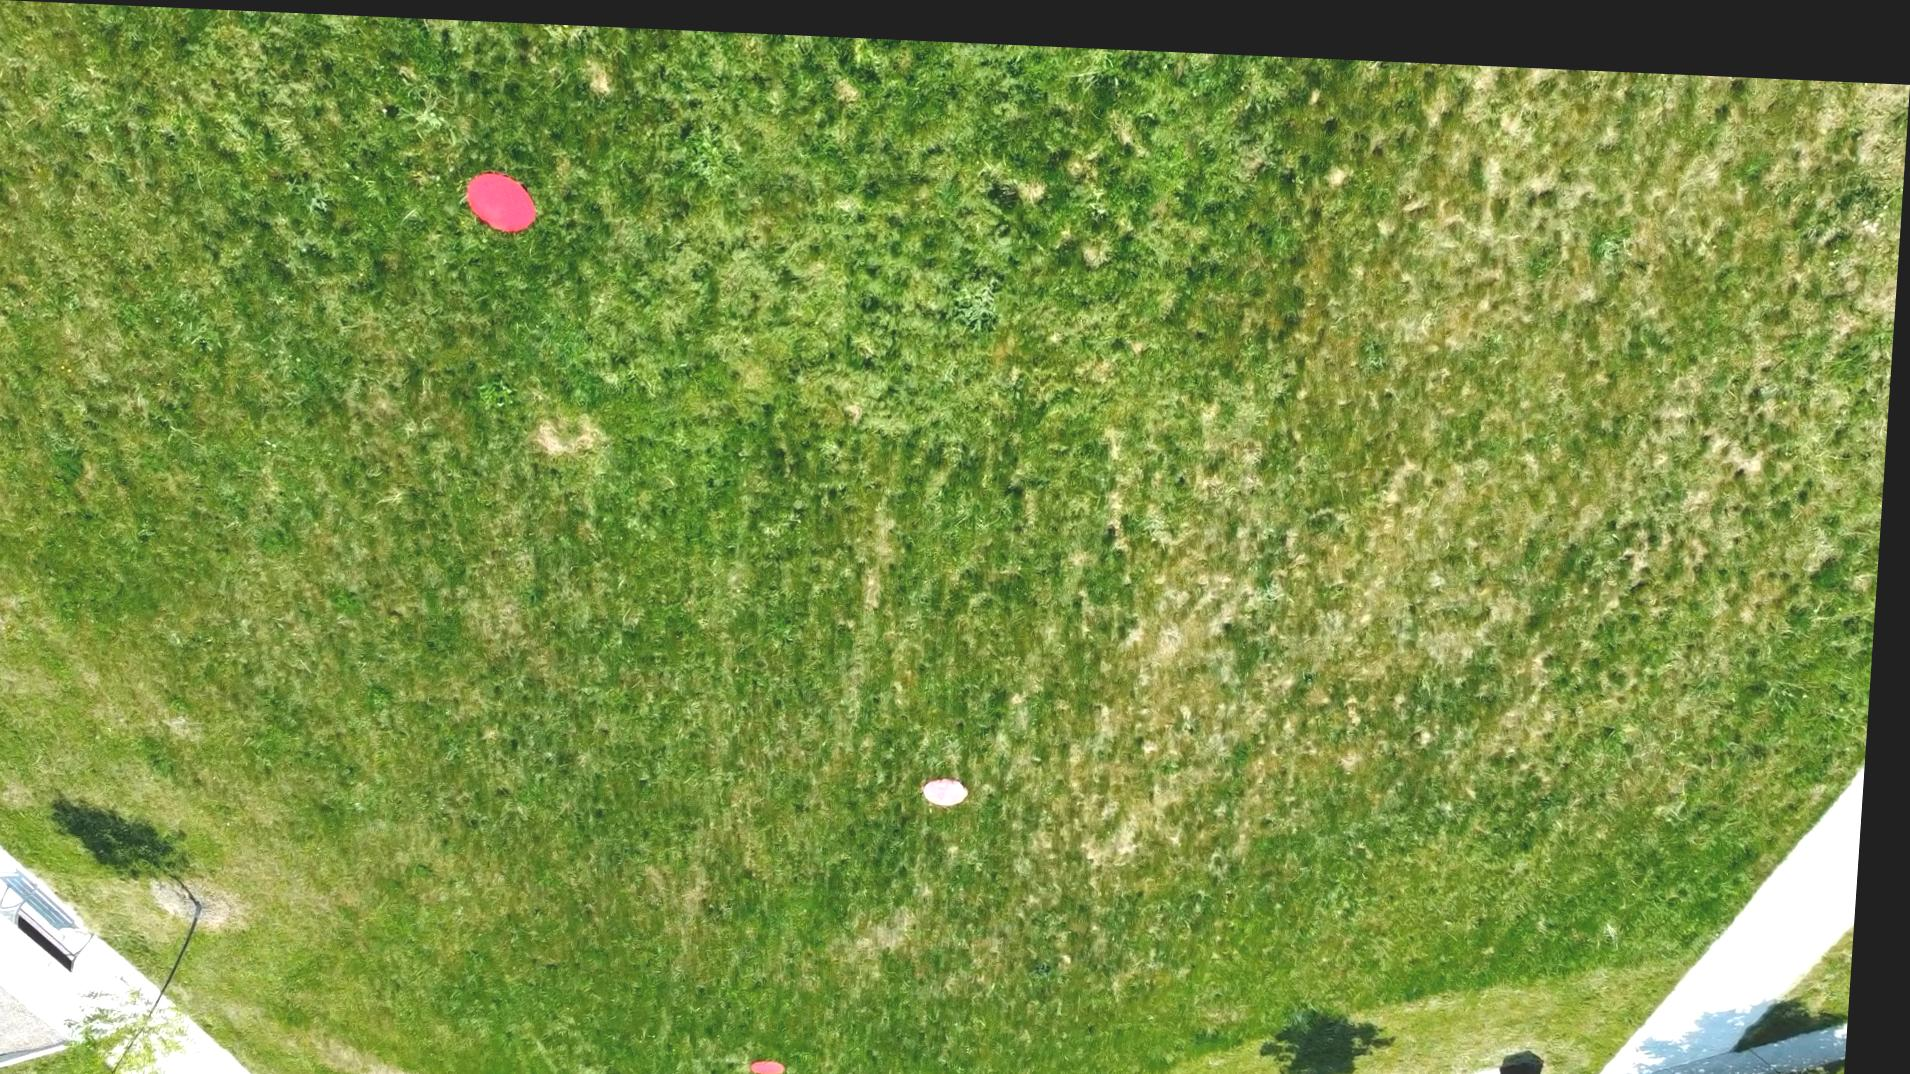Red: (462, 164, 539, 233), (925, 766, 984, 800), (760, 1050, 804, 1071)
